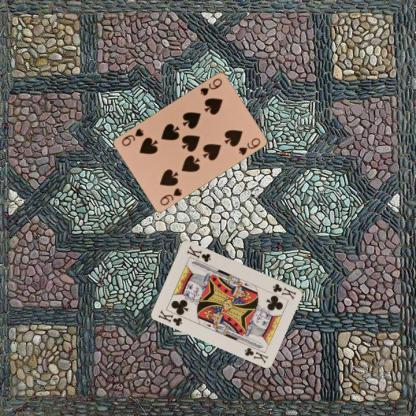9s: (157, 185, 183, 207), (198, 75, 223, 97)
Kc: (155, 307, 184, 327), (270, 281, 298, 300)
